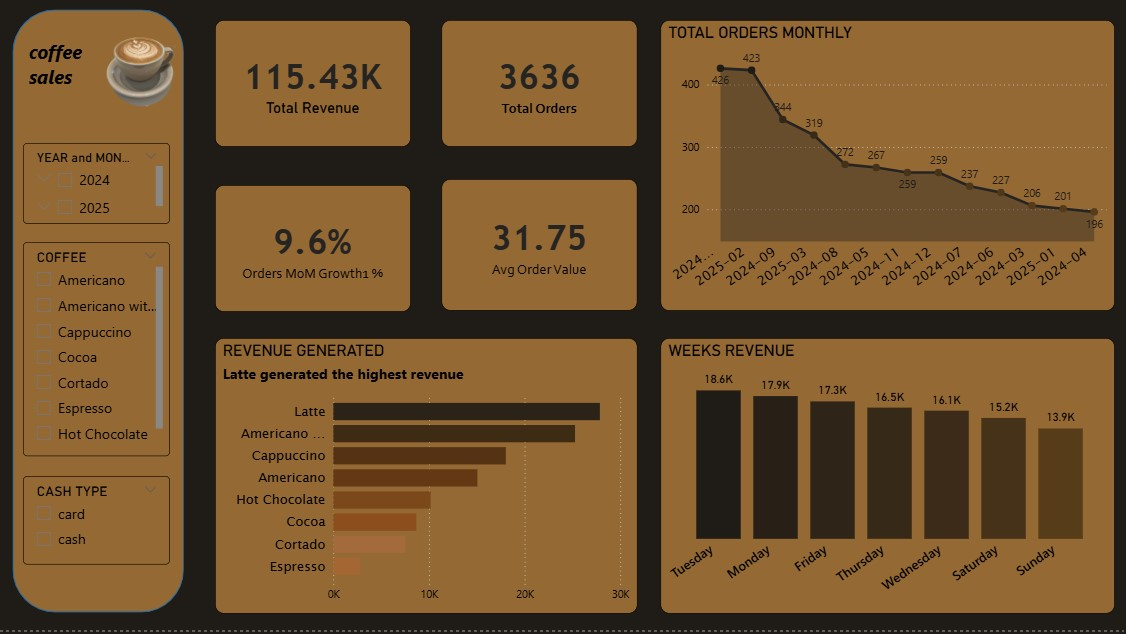

This screenshot's page, from the dashboard's own definition file:
{"tool":"powerbi","page":{"name":"Overview","canvas":[1280,720],"ordinal":0},"visuals":[{"type":"card","title":"TOTAL REVENUE","fields":{"Values":["coffee.Total Revenue"]},"box":[247.2,31.1,221.3,143.5],"z":0},{"type":"clusteredBarChart","title":"REVENUE GENERATED ","fields":{"Category":["coffee.coffee_name"],"Y":["coffee.Revenue by Coffee"]},"box":[247.2,389,477.2,311.2],"z":1000},{"type":"shape","box":[19,19,193.6,681.2],"z":2000},{"type":"image","box":[96.8,0,133.1,127.9],"z":3000},{"type":"textbox","box":[31.4,46.2,98,81.4],"z":4000},{"type":"slicer","fields":{"Values":["coffee.year","coffee.month"]},"box":[31.1,169.4,166,91.6],"z":5000},{"type":"slicer","fields":{"Values":["coffee.coffee_name"]},"box":[31.1,281.8,166,242.1],"z":6000},{"type":"slicer","fields":{"Values":["coffee.cash_type"]},"box":[31.1,546.4,166,100.3],"z":7000},{"type":"card","fields":{"Values":["coffee.Avg Order Value"]},"box":[503.1,210.9,221.3,148.7],"z":8000},{"type":"card","fields":{"Values":["coffee.Orders MoM Growth1 %"]},"box":[247.2,216.1,221.3,143.5],"z":9000},{"type":"card","fields":{"Values":["coffee.Total Orders"]},"box":[503.1,31.1,221.3,143.5],"z":10000},{"type":"lineChart","title":"TOTAL ORDERS MONTHLY","fields":{"Category":["DateTable.Year-Month"],"Y":["coffee.Total Orders"]},"box":[750.4,31.1,513.5,328.5],"z":11000},{"type":"columnChart","title":"WEEKS REVENUE","fields":{"Category":["coffee.day_name"],"Y":["coffee.Total Revenue"]},"box":[750.4,389,513.5,311.2],"z":12000}]}

Visuals, with their boxes in screenshot pixels (x1, y1, x2, y2), scaled from the page's 1280x720 canvas onto the 1126x634 screenshot:
"TOTAL REVENUE" card: 217, 27, 412, 154
"REVENUE GENERATED " clusteredBarChart: 217, 343, 637, 617
shape: 17, 17, 187, 617
image: 85, 0, 202, 113
textbox: 28, 41, 114, 112
slicer - coffee.year x coffee.month: 27, 149, 173, 230
slicer - coffee.coffee_name: 27, 248, 173, 461
slicer - coffee.cash_type: 27, 481, 173, 569
card - coffee.Avg Order Value: 443, 186, 637, 317
card - coffee.Orders MoM Growth1 %: 217, 190, 412, 317
card - coffee.Total Orders: 443, 27, 637, 154
"TOTAL ORDERS MONTHLY" lineChart: 660, 27, 1112, 317
"WEEKS REVENUE" columnChart: 660, 343, 1112, 617
